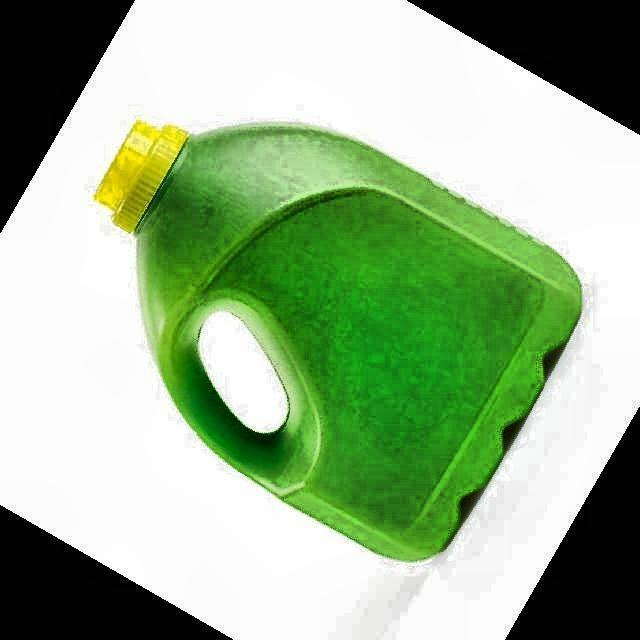plastic: (95, 121, 581, 560)
